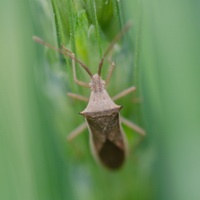insect: (32, 23, 144, 168)
